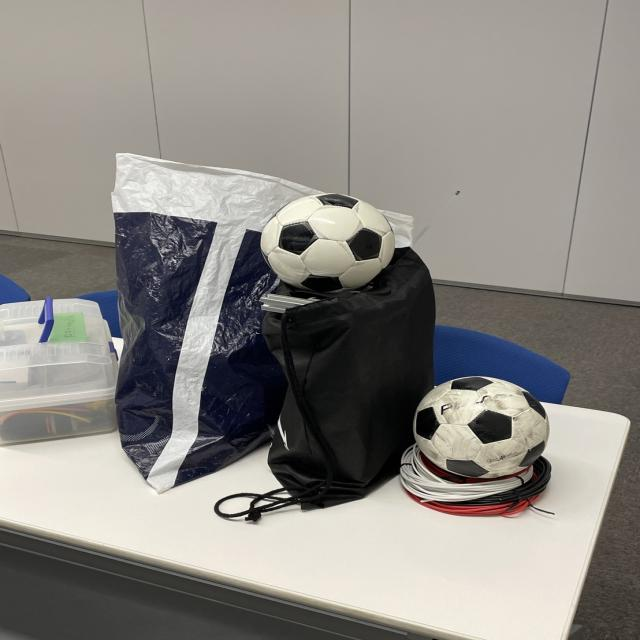ball: (415, 375, 548, 482), (259, 195, 393, 292)
